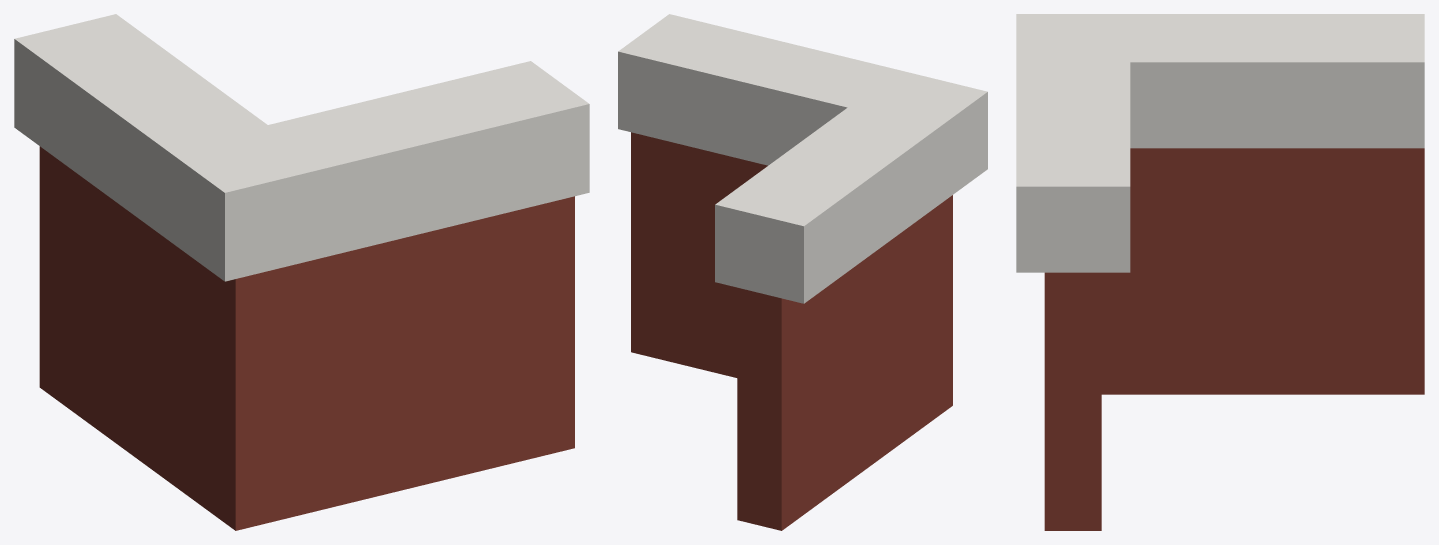
File: halfWallStraight.fbx
3 views of the same model, side by side, from view 1: azimuth 30°, elevation 25°; view 2: azimuth 150°, elevation 25°; view 3: azimuth 270°, elevation 25° (orthographic). The views are drawn at different scales.
Visible parts, largest first — view 1: halfWallStraight; view 2: halfWallStraight; view 3: halfWallStraight.
Boxes of the visible parts, box(x1,y1,x2,y2) form: halfWallStraight: box(14, 14, 589, 530); halfWallStraight: box(618, 14, 987, 530); halfWallStraight: box(1016, 14, 1424, 530).
Size of the model in its own units: 215 by 200 by 215.
Materials: 1 (1 with a texture image).
